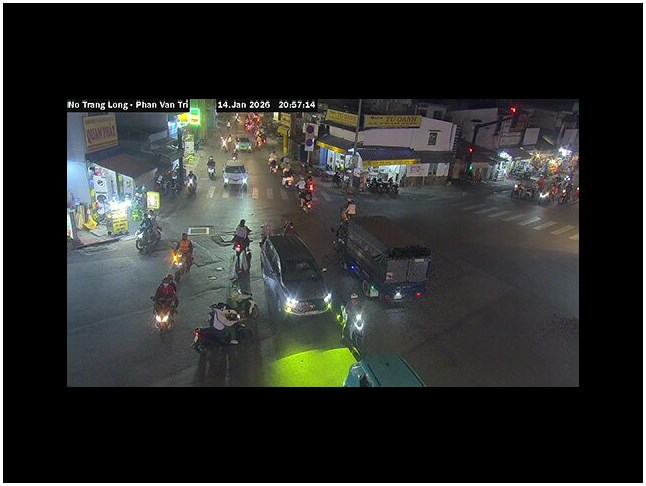car: (259, 229, 333, 324), (343, 348, 426, 386), (222, 161, 248, 186)
motorbike: (135, 213, 162, 254), (299, 192, 315, 213)
